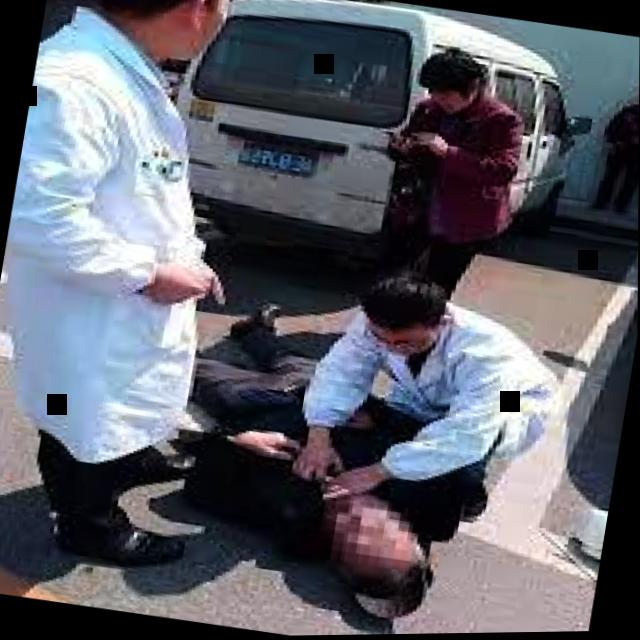Fall-Detected: (142, 273, 521, 625)
